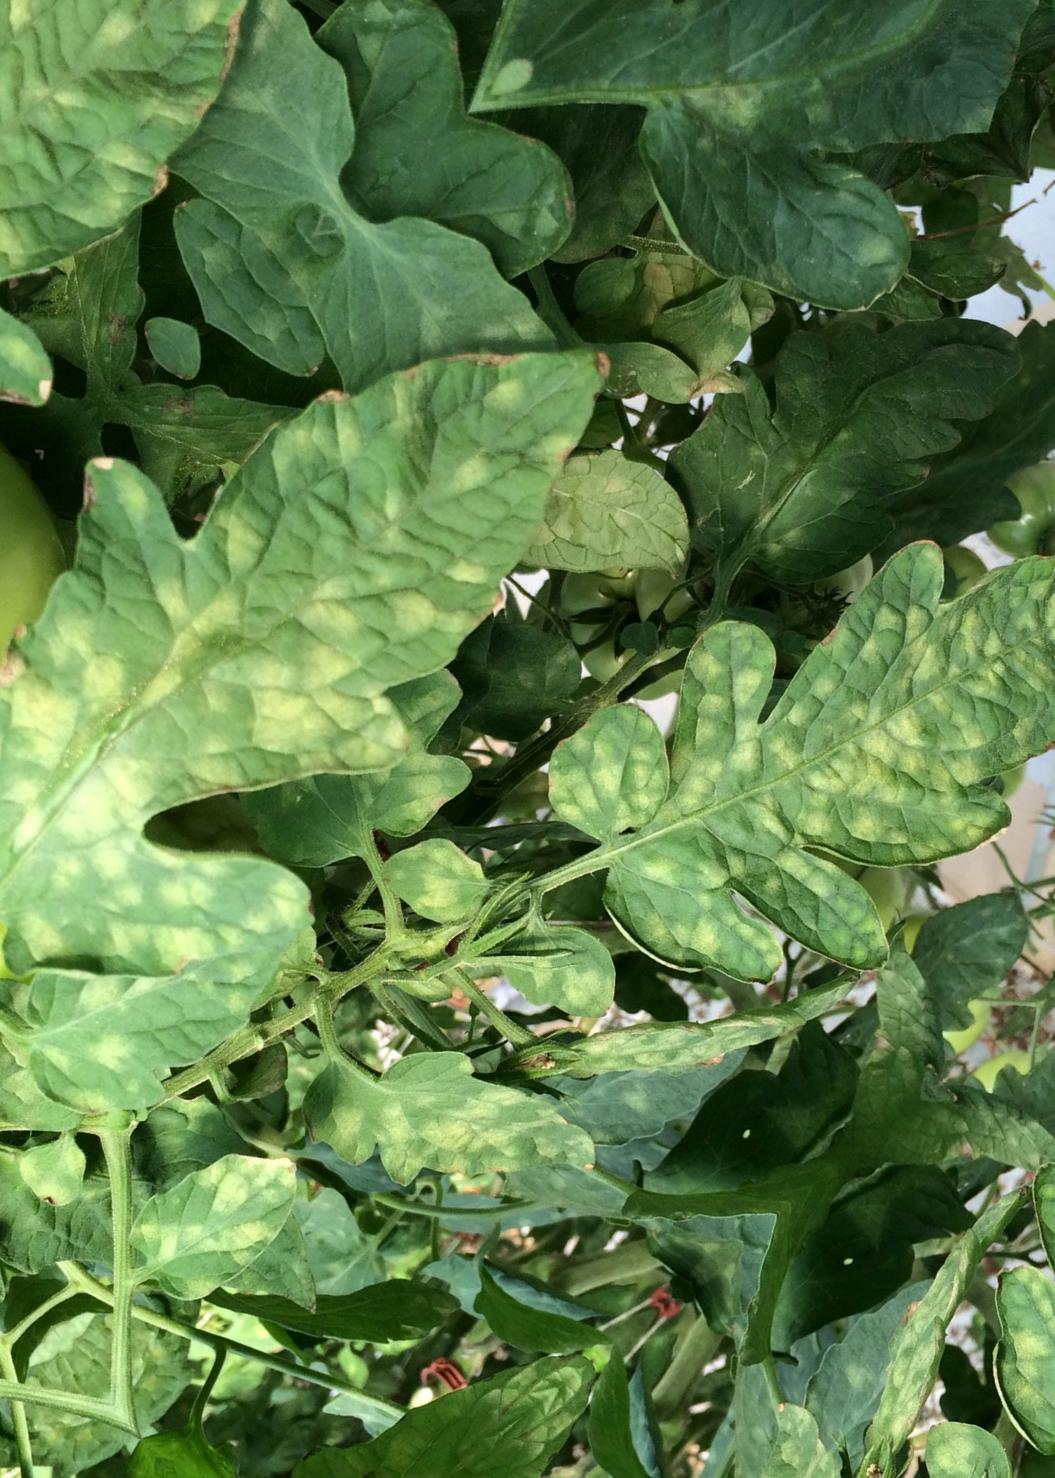Tomato mold leaf: (0, 231, 743, 1060), (505, 382, 1055, 1079), (260, 928, 617, 1295), (0, 872, 258, 1166), (454, 405, 720, 664), (112, 1107, 344, 1324), (369, 801, 516, 950), (497, 908, 642, 1054)
